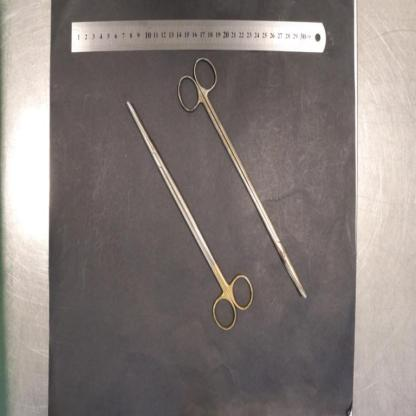7 Metzenbaum Scissors: (126, 100, 255, 332)
9 Metzenbaum Scissors: (176, 53, 306, 300)
